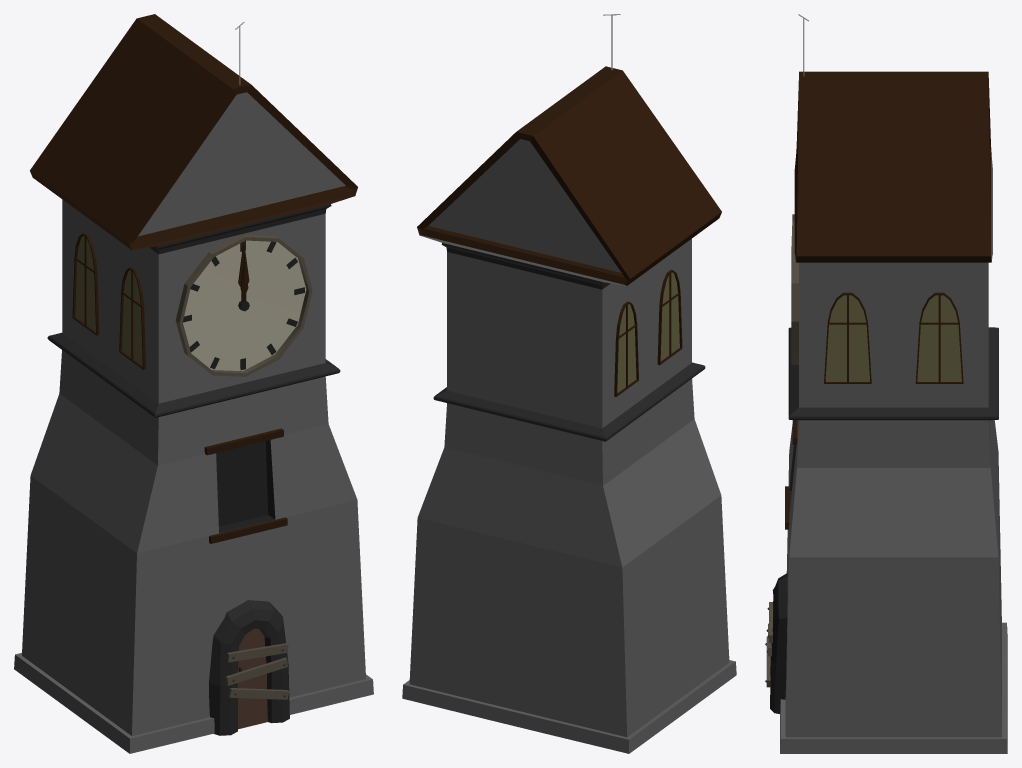
File: S_ClockTower.fbx
3 renders of one model, left to right at view 1: azimuth 30°, elevation 25°; view 2: azimuth 150°, elevation 25°; view 3: azimuth 270°, elevation 25°, orthographic. The views are drawn at different scales.
Parts seen in each view (by area): view 1: Structure, Clock, Door1, Window2, Planks; view 2: Structure, Window2; view 3: Structure, Window2, Door1, Clock, Planks.
Boxes of the visible parts, <box> form: Structure: <box>14,14,373,753</box>; Clock: <box>175,234,312,376</box>; Door1: <box>208,600,289,735</box>; Window2: <box>72,233,145,369</box>; Planks: <box>225,643,289,699</box>; Structure: <box>402,14,736,753</box>; Window2: <box>614,269,682,396</box>; Structure: <box>780,14,1007,753</box>; Window2: <box>824,292,963,383</box>; Door1: <box>770,573,787,713</box>; Clock: <box>791,214,798,364</box>; Planks: <box>765,602,772,687</box>.
Size of the model in its own units: 9.99 by 27.03 by 8.74.
